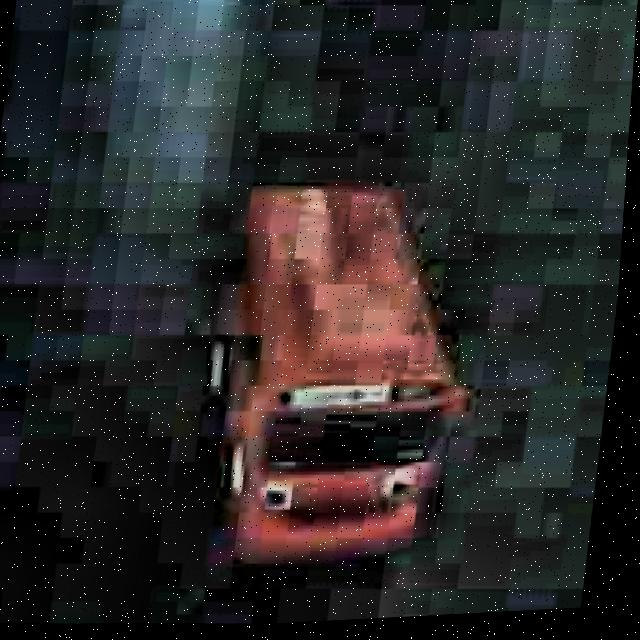bus: (149, 145, 520, 607)
